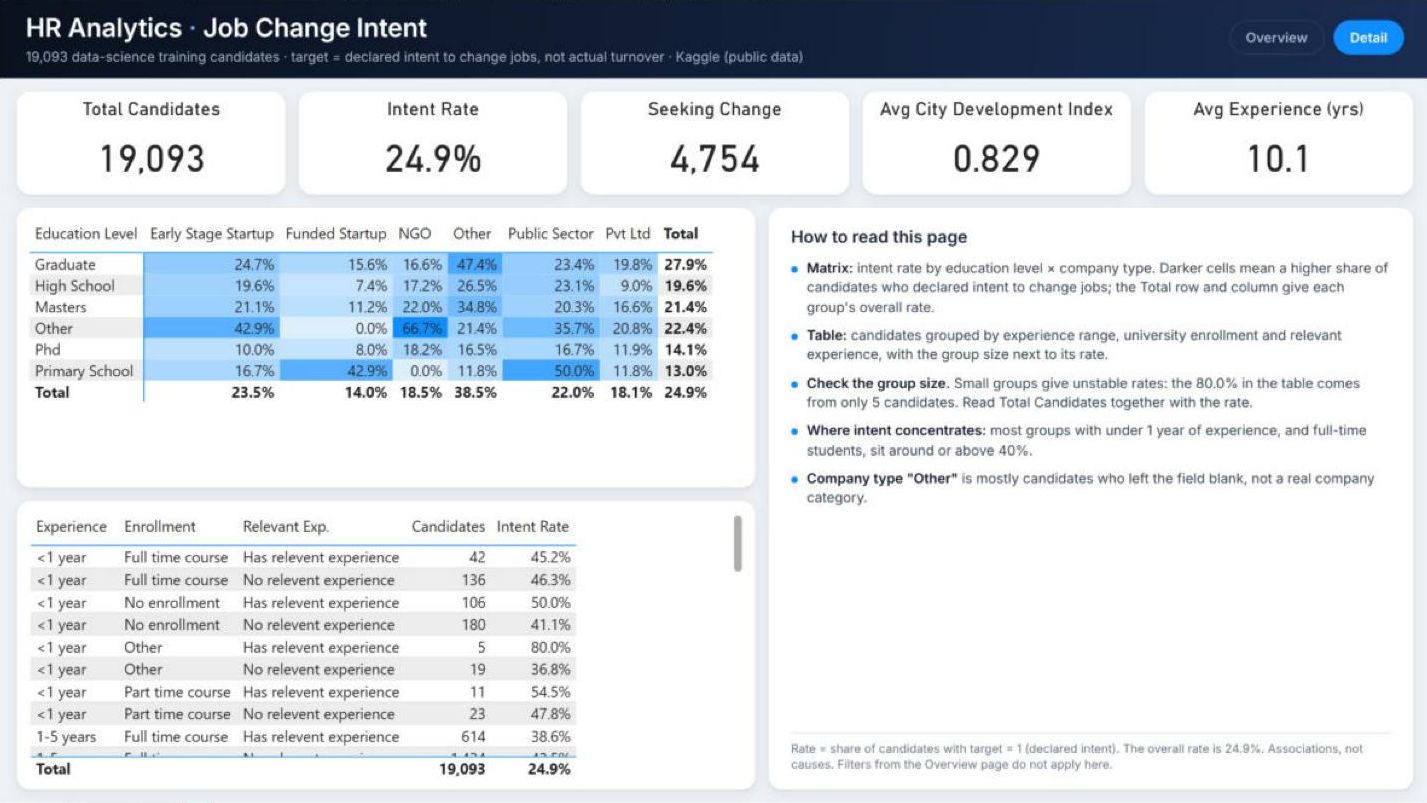

This screenshot's page, from the dashboard's own definition file:
{"tool":"powerbi","page":{"name":"Detail","canvas":[1280,720],"ordinal":1},"visuals":[{"type":"pivotTable","fields":{"Rows":["hr_analytics_tratado.education_level"],"Values":["hr_analytics_tratado.Taxa Saida %"],"Columns":["hr_analytics_tratado.company_type"]},"box":[22,194,648,238],"z":0},{"type":"card","title":"Total Candidates","fields":{"Values":["hr_analytics_tratado.Total Candidates"]},"box":[20,88,232,84],"z":1000},{"type":"card","title":"Intent Rate","fields":{"Values":["hr_analytics_tratado.Job Change Intent Rate"]},"box":[272,88,232,84],"z":2000},{"type":"card","title":"Seeking Change","fields":{"Values":["hr_analytics_tratado.Candidates Seeking Change"]},"box":[524,88,232,84],"z":3000},{"type":"card","title":"Avg City Development Index","fields":{"Values":["hr_analytics_tratado.Avg City Dev Index"]},"box":[776,88,232,84],"z":4000},{"type":"card","title":"Avg Experience (yrs)","fields":{"Values":["hr_analytics_tratado.Avg Experience (years)"]},"box":[1028,88,232,84],"z":5000},{"type":"tableEx","fields":{"Values":["hr_analytics_tratado.Faixa Experiencia","hr_analytics_tratado.enrolled_university","hr_analytics_tratado.relevent_experience","hr_analytics_tratado.Total Candidatos","hr_analytics_tratado.Taxa Saida %"]},"box":[22,456,648,246],"z":6000},{"type":"actionButton","box":[1098,18,90,34],"z":7000}]}

Visuals, with their boxes in screenshot pixels (x1, y1, x2, y2), scaled from the page's 1280x720 canvas onto the 1427x803 screenshot:
pivotTable - hr_analytics_tratado.education_level x hr_analytics_tratado.Taxa Saida %: {"x1": 25, "y1": 216, "x2": 747, "y2": 482}
"Total Candidates" card: {"x1": 22, "y1": 98, "x2": 281, "y2": 192}
"Intent Rate" card: {"x1": 303, "y1": 98, "x2": 562, "y2": 192}
"Seeking Change" card: {"x1": 584, "y1": 98, "x2": 843, "y2": 192}
"Avg City Development Index" card: {"x1": 865, "y1": 98, "x2": 1124, "y2": 192}
"Avg Experience (yrs)" card: {"x1": 1146, "y1": 98, "x2": 1405, "y2": 192}
tableEx - hr_analytics_tratado.Faixa Experiencia x hr_analytics_tratado.enrolled_university: {"x1": 25, "y1": 509, "x2": 747, "y2": 783}
actionButton: {"x1": 1224, "y1": 20, "x2": 1324, "y2": 58}
